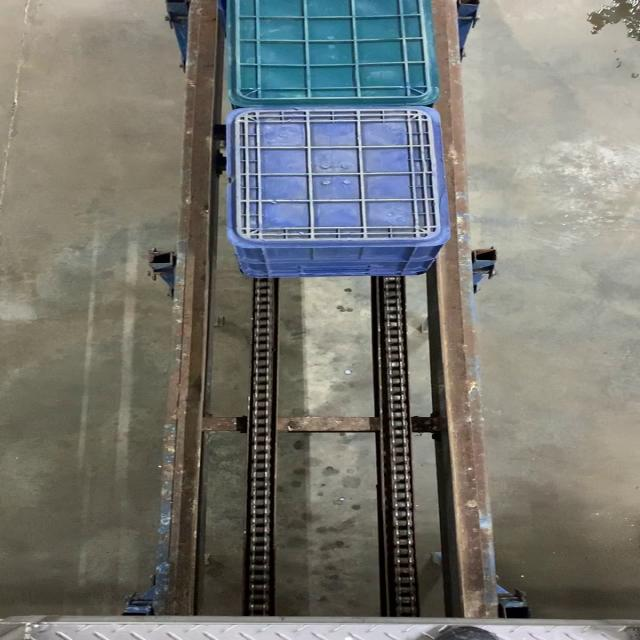Box: (228, 107, 452, 247)
